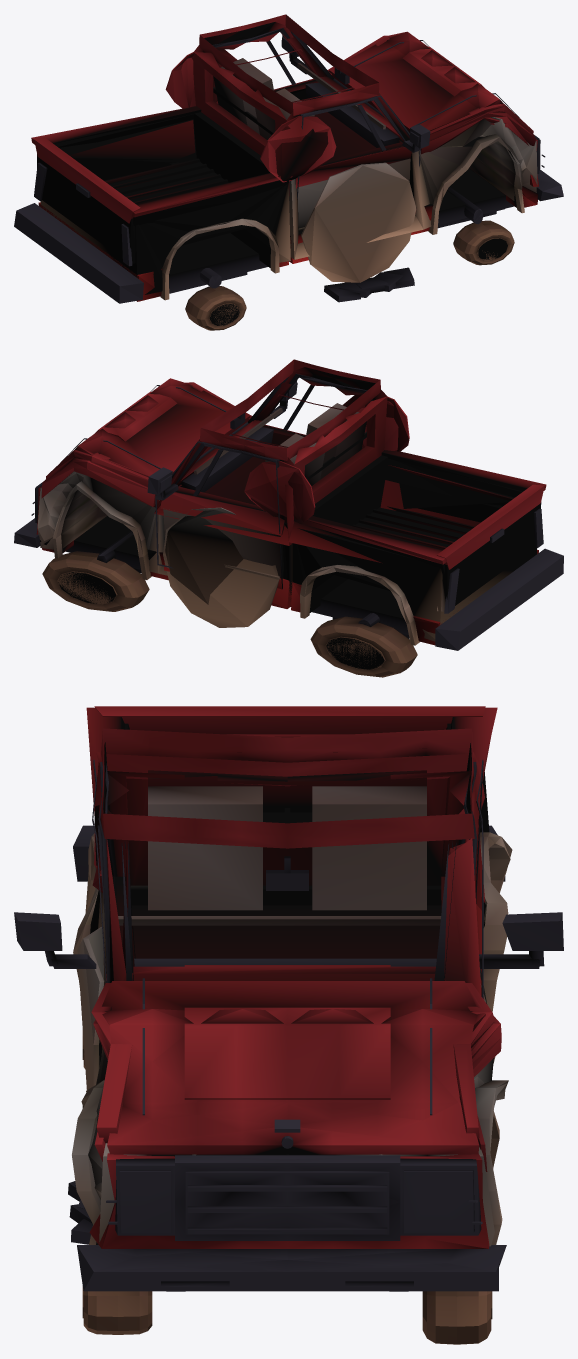
File: veh.pickup-red.burned.glb
3 views of the same model, one above another, from view 1: azimuth 30°, elevation 25°; view 2: azimuth 150°, elevation 25°; view 3: azimuth 270°, elevation 25° (orthographic). The views are drawn at different scales.
Visible parts, largest first — view 1: body, wheelRL, wheelFL; view 2: body, wheelRR, wheelFR; view 3: body, wheelFR, wheelFL.
Boxes of the visible parts, left/top/right/bottom form: body: left=14, top=14, right=563, bottom=303; wheelRL: left=185, top=286, right=246, bottom=330; wheelFL: left=453, top=220, right=514, bottom=265; body: left=14, top=359, right=563, bottom=650; wheelRR: left=310, top=616, right=417, bottom=677; wheelFR: left=42, top=551, right=149, bottom=611; body: left=14, top=706, right=563, bottom=1291; wheelFR: left=422, top=1291, right=492, bottom=1344; wheelFL: left=82, top=1286, right=152, bottom=1334.
Size of the model in its own units: 4.73 by 2.11 by 2.56.
